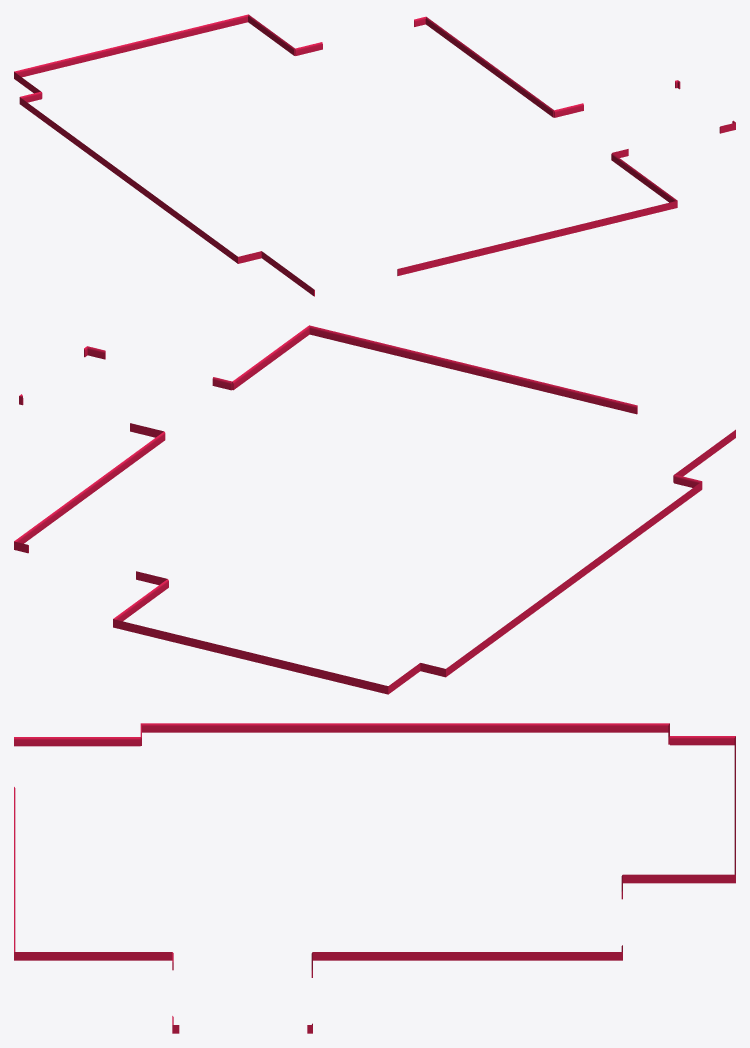
Rendered from SM_LR_Habaki.fbx.
3 views of the same model, one above another, from view 1: azimuth 30°, elevation 25°; view 2: azimuth 150°, elevation 25°; view 3: azimuth 270°, elevation 25° (orthographic). The views are drawn at different scales.
Visible parts, largest first — view 1: SM_LR_Habaki; view 2: SM_LR_Habaki; view 3: SM_LR_Habaki.
Boxes of the visible parts, box(x1,y1,x2,y2) form: SM_LR_Habaki: box(14, 14, 735, 296); SM_LR_Habaki: box(14, 325, 735, 694); SM_LR_Habaki: box(14, 723, 735, 1033).
Size of the model in its own units: 518 by 7 by 524.
